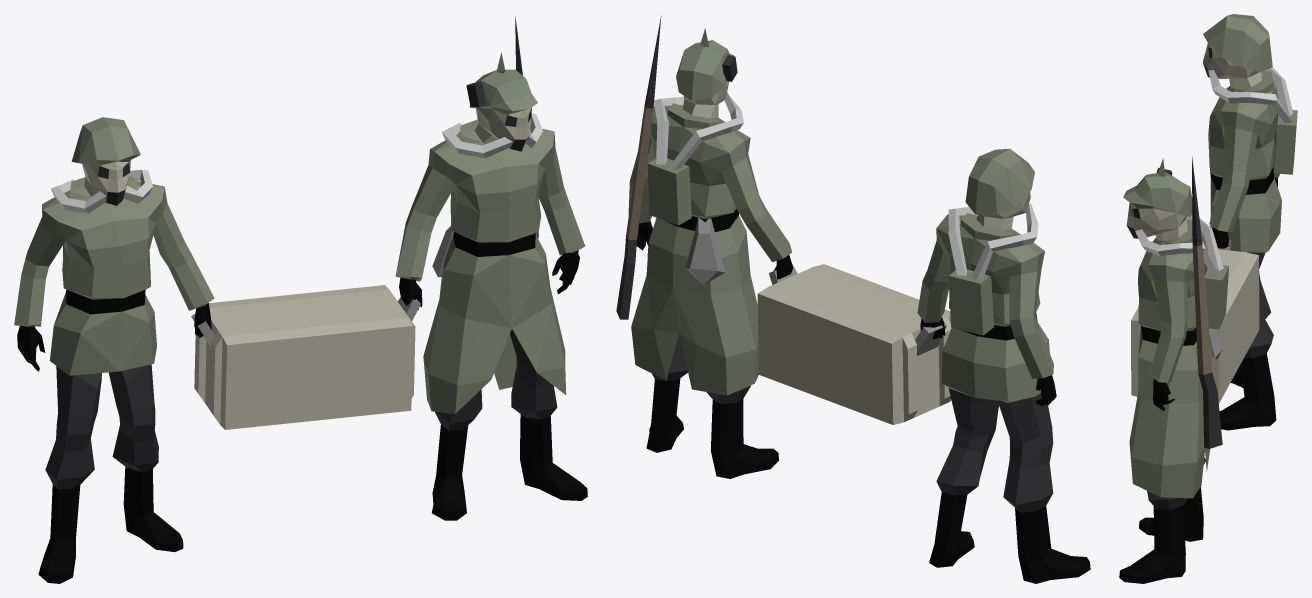
File: low-poly_germans_a_sucker_punch.glb
3 renders of one model, left to right at view 1: azimuth 30°, elevation 25°; view 2: azimuth 150°, elevation 25°; view 3: azimuth 270°, elevation 25°, orthographic. The views are drawn at different scales.
Visible parts, largest first — view 1: Zombie.obj_Khaki-Dark_0, Zombie.obj_Khaki_0, Zombie.obj_Black-Dark_0, Zombie.obj_Black_0, Zombie.obj_Gray-Light_0, Zombie.obj_Gray-Dark_0; view 2: Zombie.obj_Khaki-Dark_0, Zombie.obj_Khaki_0, Zombie.obj_Black-Dark_0, Zombie.obj_Black_0, Zombie.obj_Gray-Light_0, Zombie.obj_Gray-Dark_0, Zombie.obj_Brown_0; view 3: Zombie.obj_Khaki-Dark_0, Zombie.obj_Black-Dark_0, Zombie.obj_Khaki_0, Zombie.obj_Black_0, Zombie.obj_Gray-Light_0, Zombie.obj_Brown_0, Zombie.obj_Gray-Dark_0.
Part boxes in pixels (<box>): Zombie.obj_Khaki-Dark_0: <box>14,52,584,413</box>; Zombie.obj_Khaki_0: <box>82,107,531,429</box>; Zombie.obj_Black-Dark_0: <box>17,232,587,583</box>; Zombie.obj_Black_0: <box>45,16,557,488</box>; Zombie.obj_Gray-Light_0: <box>51,113,542,213</box>; Zombie.obj_Gray-Dark_0: <box>191,226,453,347</box>; Zombie.obj_Khaki-Dark_0: <box>628,28,1053,402</box>; Zombie.obj_Khaki_0: <box>683,81,1030,424</box>; Zombie.obj_Black-Dark_0: <box>636,208,1090,583</box>; Zombie.obj_Black_0: <box>616,15,1053,512</box>; Zombie.obj_Gray-Light_0: <box>654,92,1038,280</box>; Zombie.obj_Gray-Dark_0: <box>685,218,946,355</box>; Zombie.obj_Brown_0: <box>626,105,653,239</box>; Zombie.obj_Khaki-Dark_0: <box>1123,14,1297,498</box>; Zombie.obj_Black-Dark_0: <box>1119,167,1277,583</box>; Zombie.obj_Khaki_0: <box>1126,43,1261,403</box>; Zombie.obj_Black_0: <box>1127,47,1273,509</box>; Zombie.obj_Gray-Light_0: <box>1135,67,1293,277</box>; Zombie.obj_Brown_0: <box>1192,244,1211,374</box>; Zombie.obj_Gray-Dark_0: <box>1209,240,1230,359</box>.
Bounding box in the file's own units: 2.46 × 2.14 × 0.8355.
